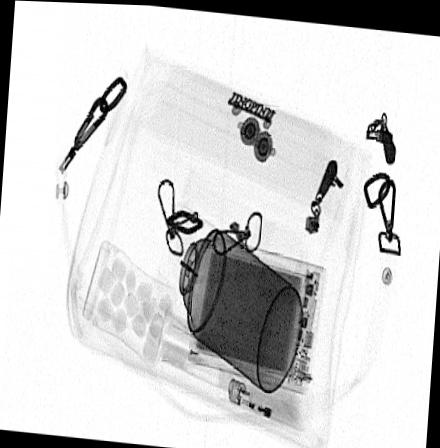Lighter: (227, 376, 305, 427)
Powerbank: (188, 227, 324, 392)
Sprayer: (156, 209, 303, 390)
